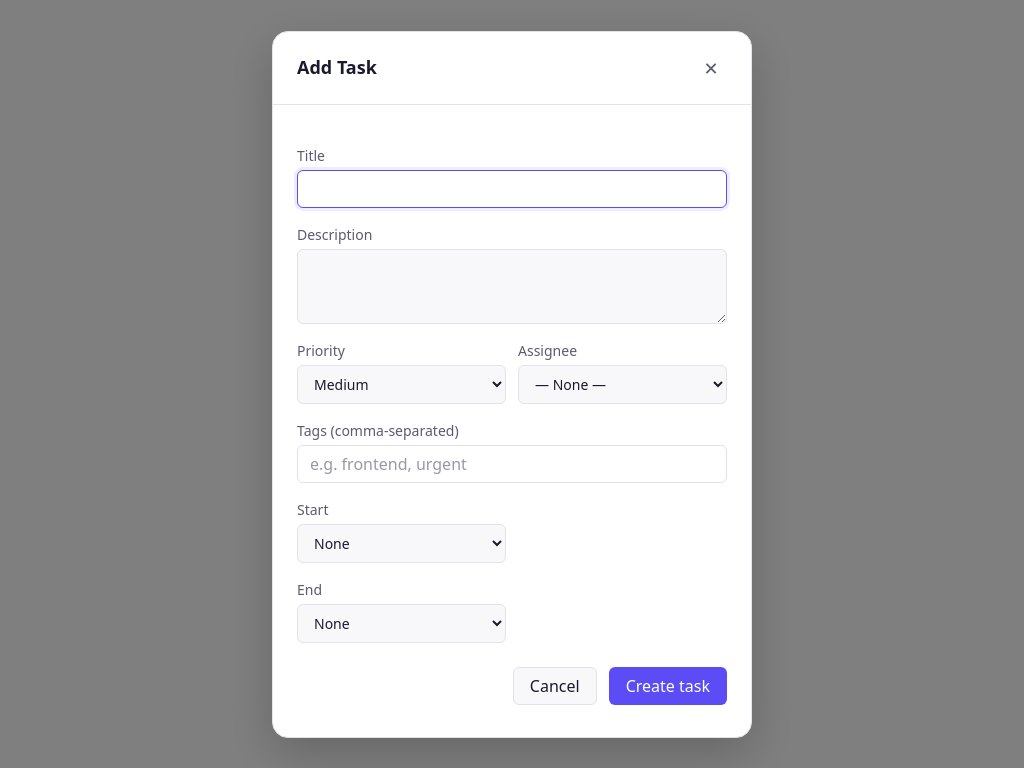
Test: AddTaskModal › shows validation error when title is empty
The image size is (1024, 768).
Click the button "Create task". click: [668, 686]
box: top-left (609, 666), bottom-right (727, 704)
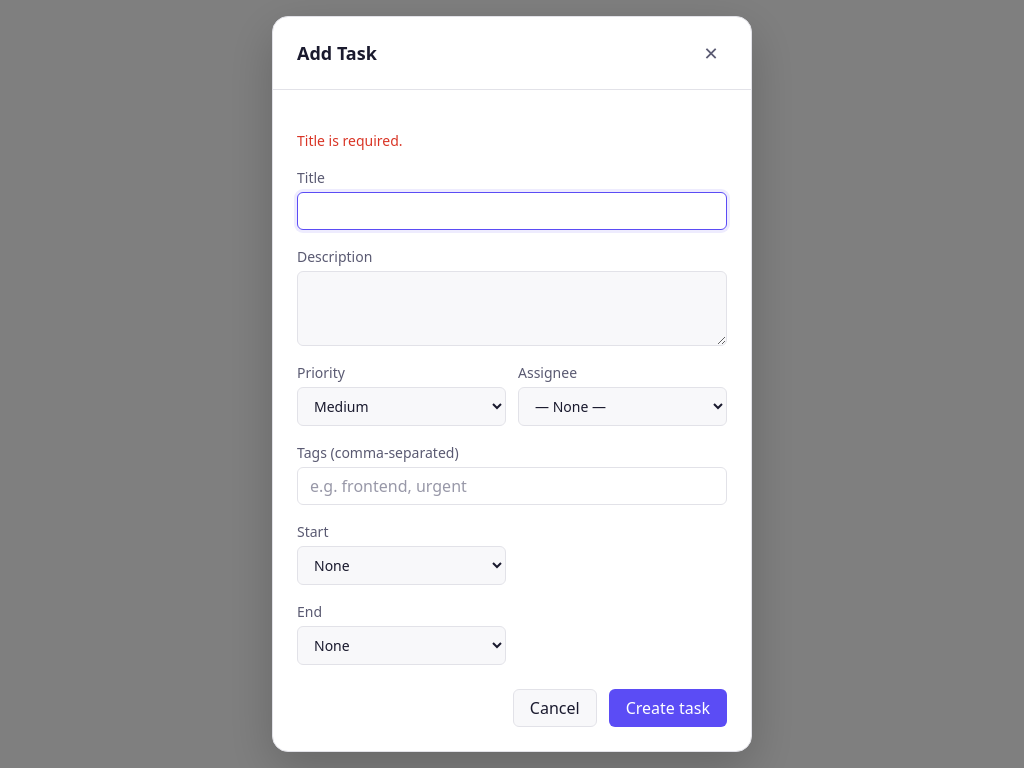
Result: the text "Title is required." is shown at top-left (297, 131), bottom-right (403, 150)
